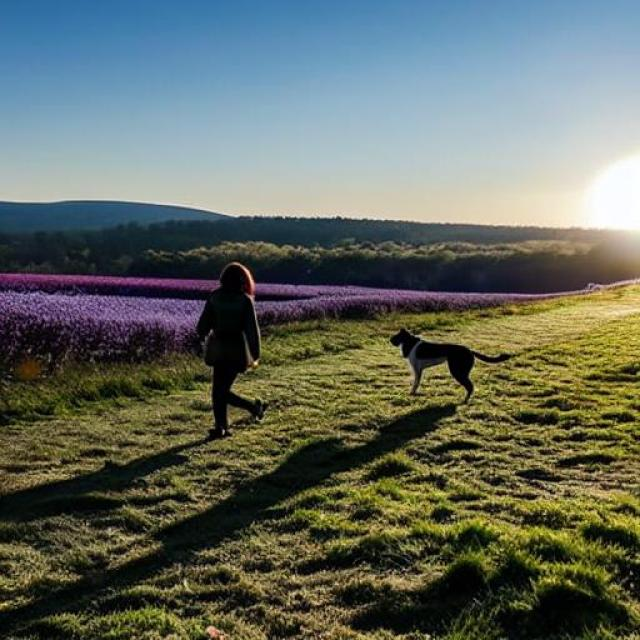Unleashed_Dog: (210, 324, 512, 405)
